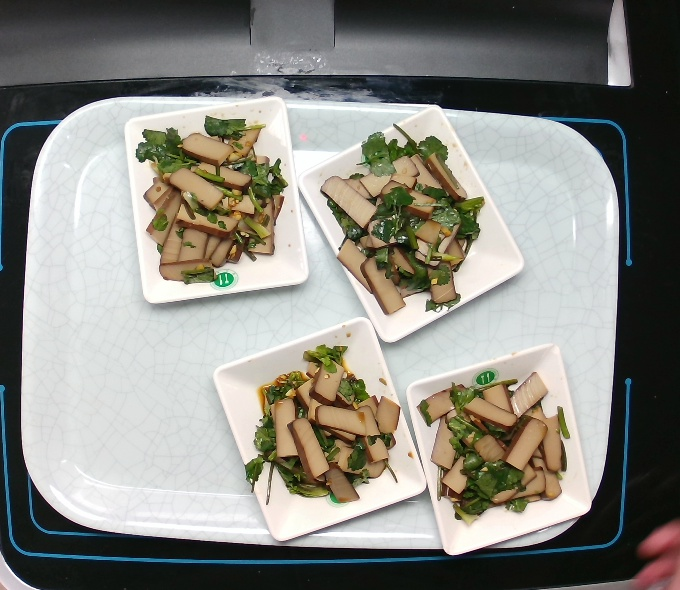wcq-JiDanGan: (315, 117, 488, 321), (130, 104, 297, 299), (239, 332, 401, 513), (415, 356, 572, 527)
